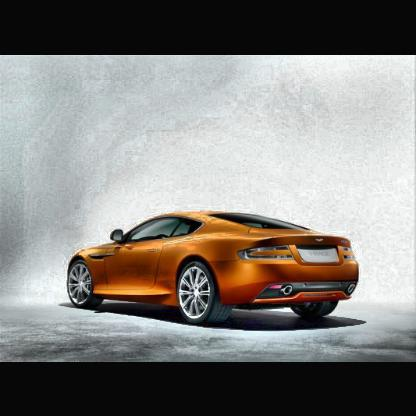Aston Martin Virage Coupe 2012: (67, 211, 362, 323)
